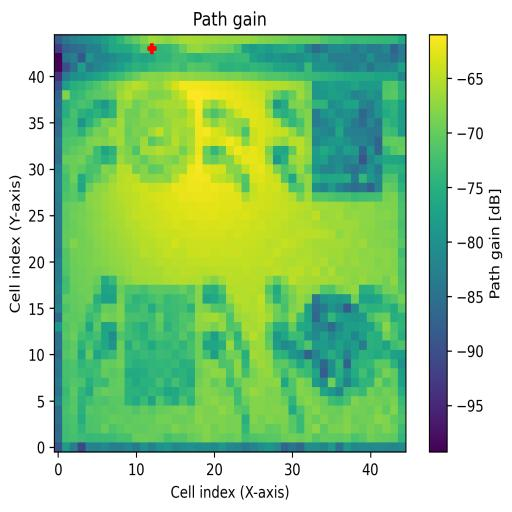Concrete: (313, 81, 382, 201)
Glass: (123, 91, 195, 184)
Metal: (296, 284, 383, 406)
Wood: (124, 286, 195, 406)
